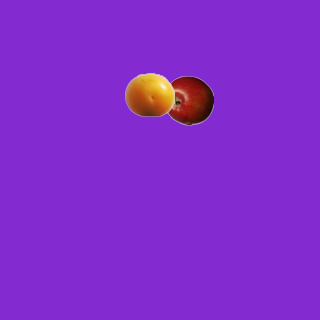Apple Braeburn: (163, 75, 213, 125)
Cherry Wax Yellow: (124, 69, 174, 119)
